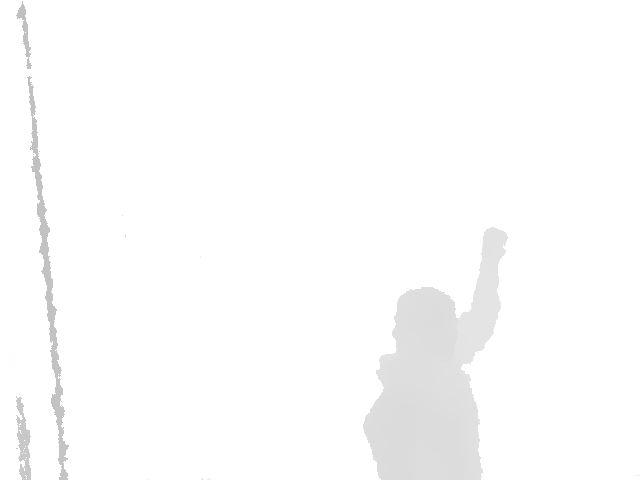hand: (480, 226, 508, 274)
head: (393, 288, 460, 362)
person: (362, 227, 508, 480)
